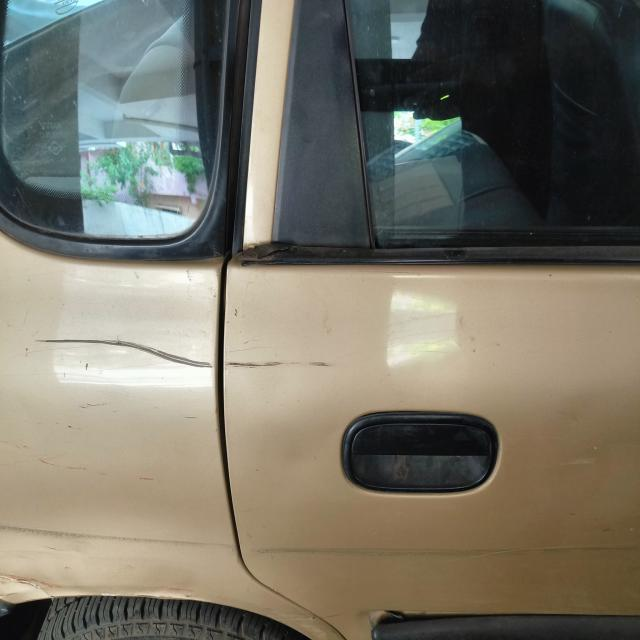scratch: (31, 332, 342, 377), (245, 540, 640, 566), (0, 521, 234, 553), (561, 450, 605, 475)
